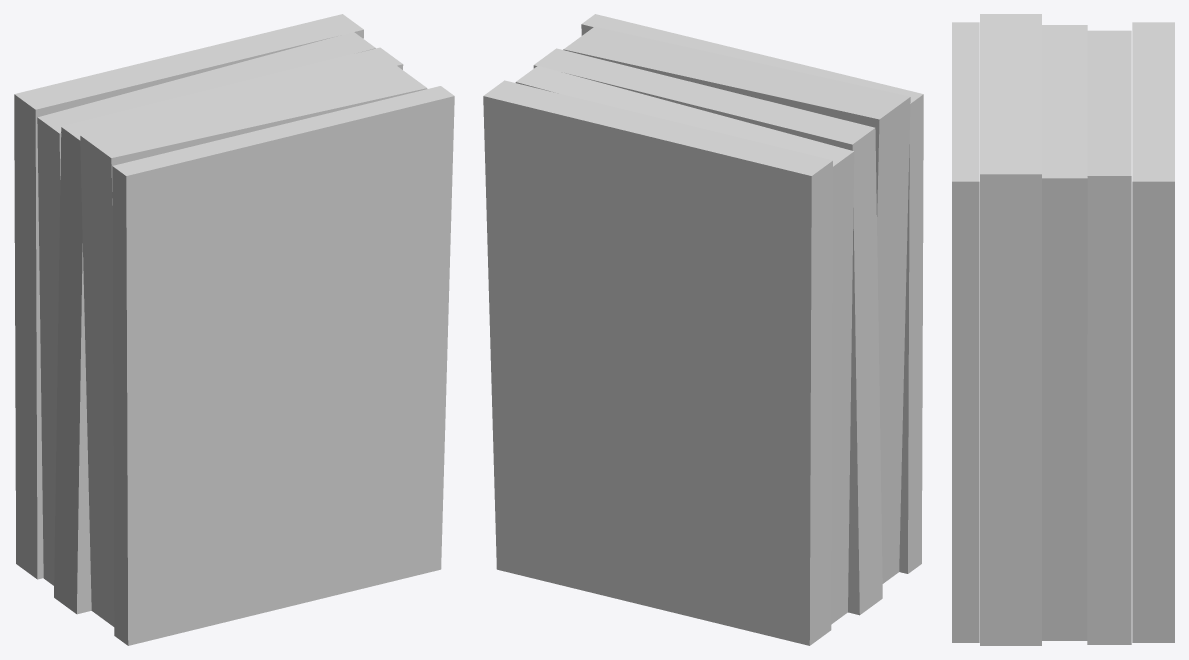
The model's file is Office_Files_E.obj.
3 views of the same model, side by side, from view 1: azimuth 30°, elevation 25°; view 2: azimuth 150°, elevation 25°; view 3: azimuth 270°, elevation 25° (orthographic).
Parts seen in each view (by area): view 1: Office_Files_E; view 2: Office_Files_E; view 3: Office_Files_E.
Part boxes in pixels (bbox=[...]): Office_Files_E: bbox=[14, 14, 454, 645]; Office_Files_E: bbox=[483, 14, 923, 645]; Office_Files_E: bbox=[952, 14, 1174, 645].
Size of the model in its own units: 0.2469 by 0.3391 by 0.144.
